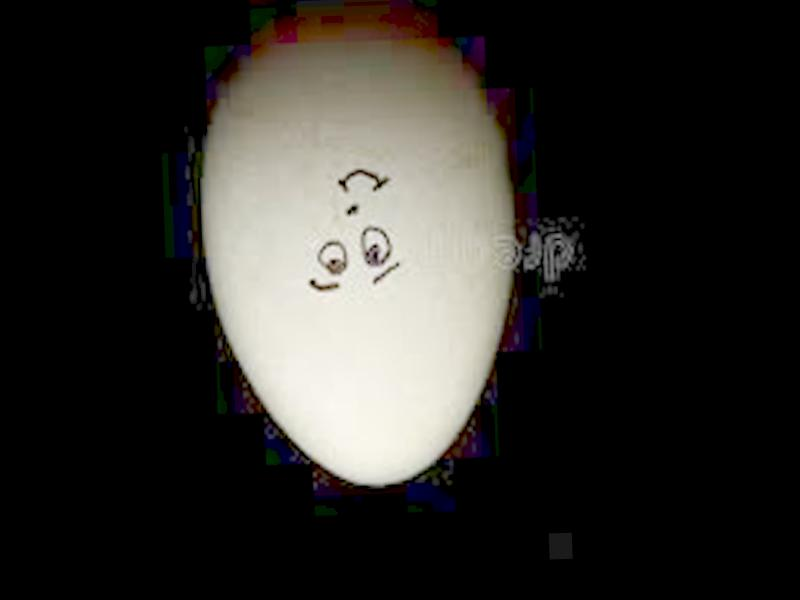Eggs: (198, 22, 519, 492)
